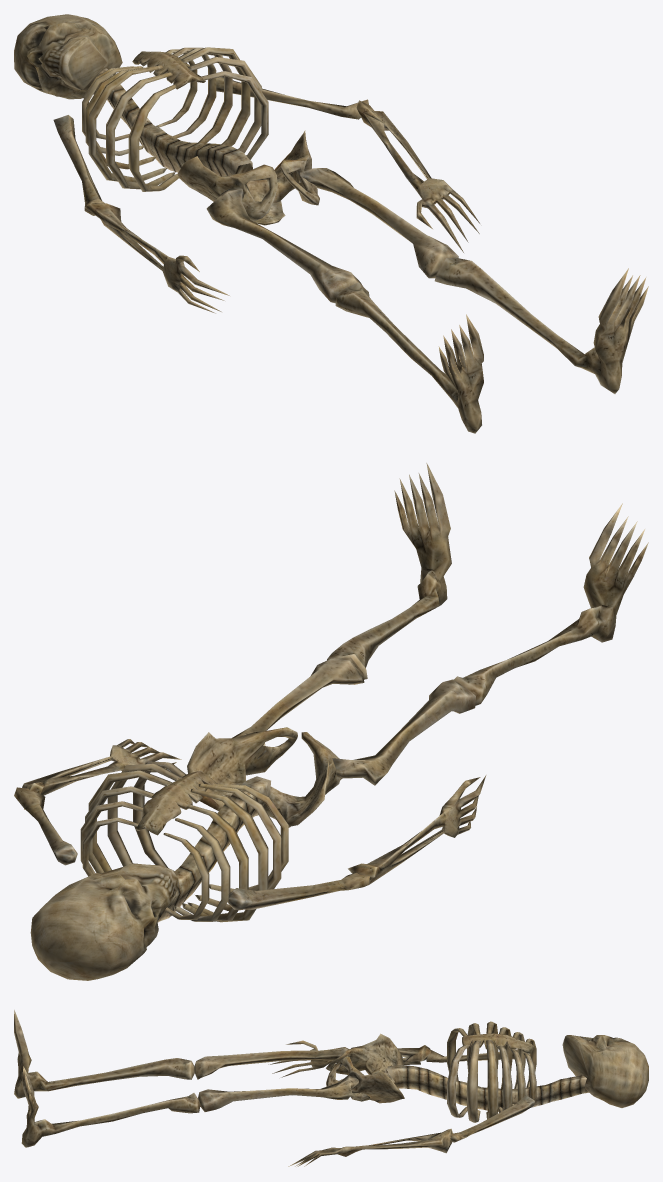
The model's file is Prop3Updare.FBX.
3 renders of one model, top to bottom at view 1: azimuth 30°, elevation 25°; view 2: azimuth 150°, elevation 25°; view 3: azimuth 270°, elevation 25°, orthographic. The views are drawn at different scales.
Parts seen in each view (by area): view 1: 111; view 2: 111; view 3: 111.
Part boxes in pixels (x1=…): 111: x1=14, y1=14, x2=648, y2=433; 111: x1=14, y1=463, x2=648, y2=980; 111: x1=14, y1=1010, x2=648, y2=1166.
Size of the model in its own units: 11.91 by 4.94 by 30.9.
Materials: 1 (1 with a texture image).
